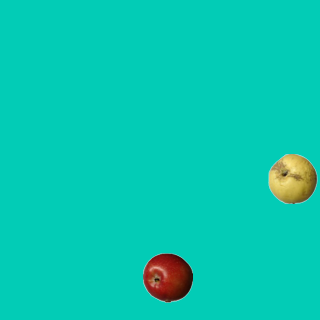Apple Braeburn: (142, 252, 192, 302)
Apple Golden 1: (267, 153, 317, 203)
